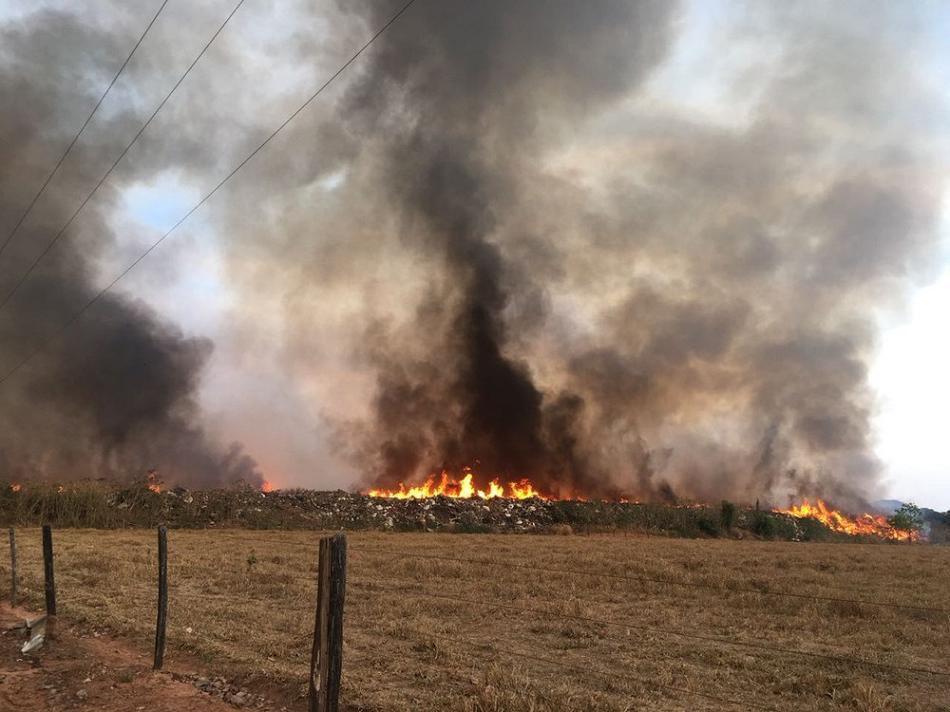Fire: (369, 463, 540, 508), (785, 500, 920, 544), (148, 471, 162, 492), (263, 479, 277, 492)
